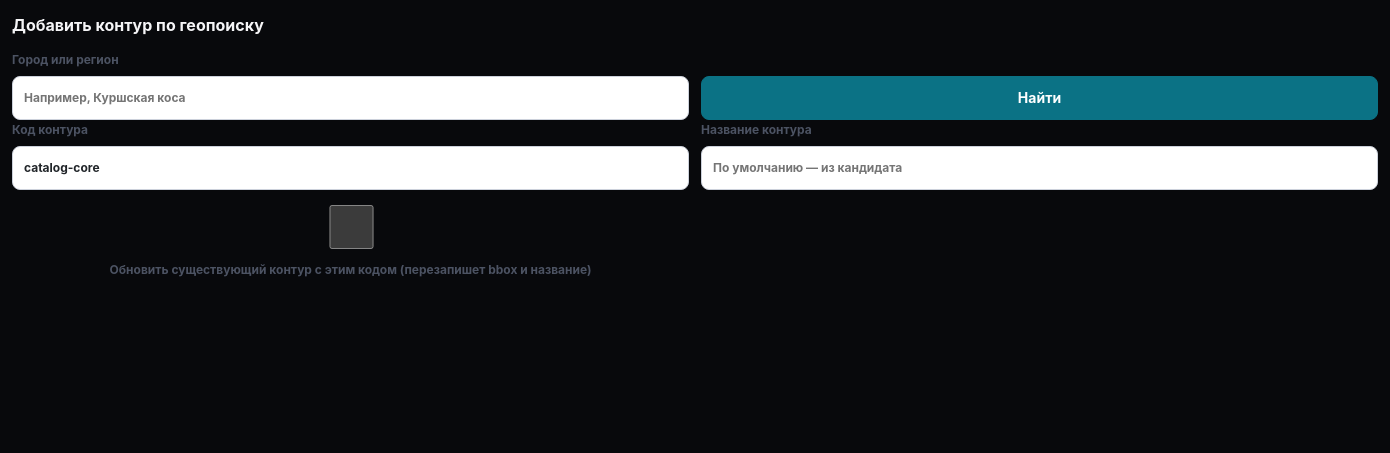
AdminDestinationGeoSearchPanel › recovers scope when recovery checkbox is explicitly enabled
This screenshot has width=1390, height=453.
Type "Калининград" into the field labelled "Город или регион" at (350, 98), box top-left (12, 76), bottom-right (689, 120)
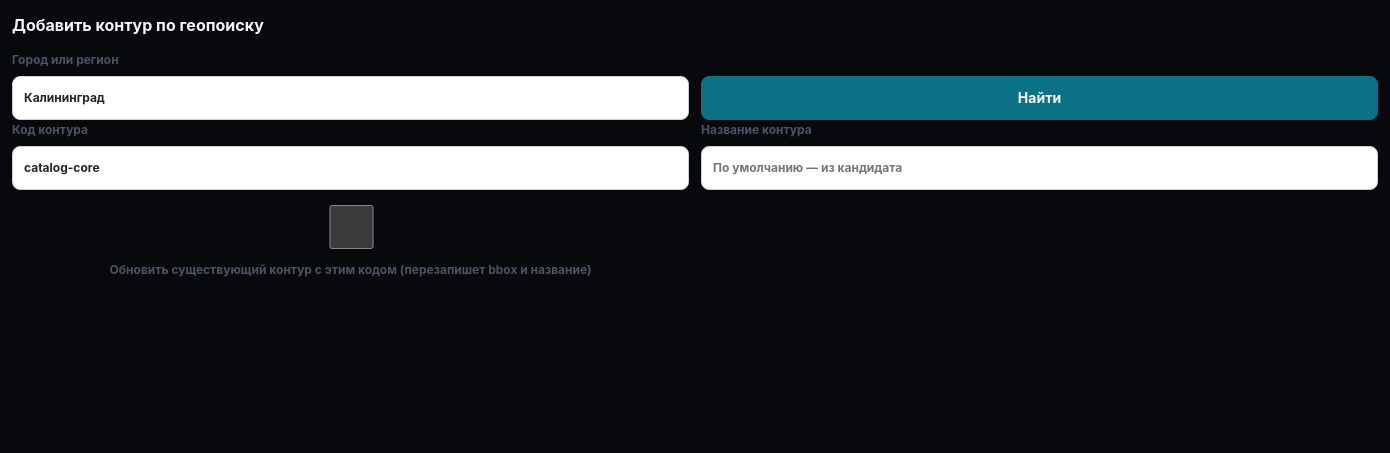
Click the button "Найти" at (1040, 98), box top-left (701, 76), bottom-right (1378, 120)
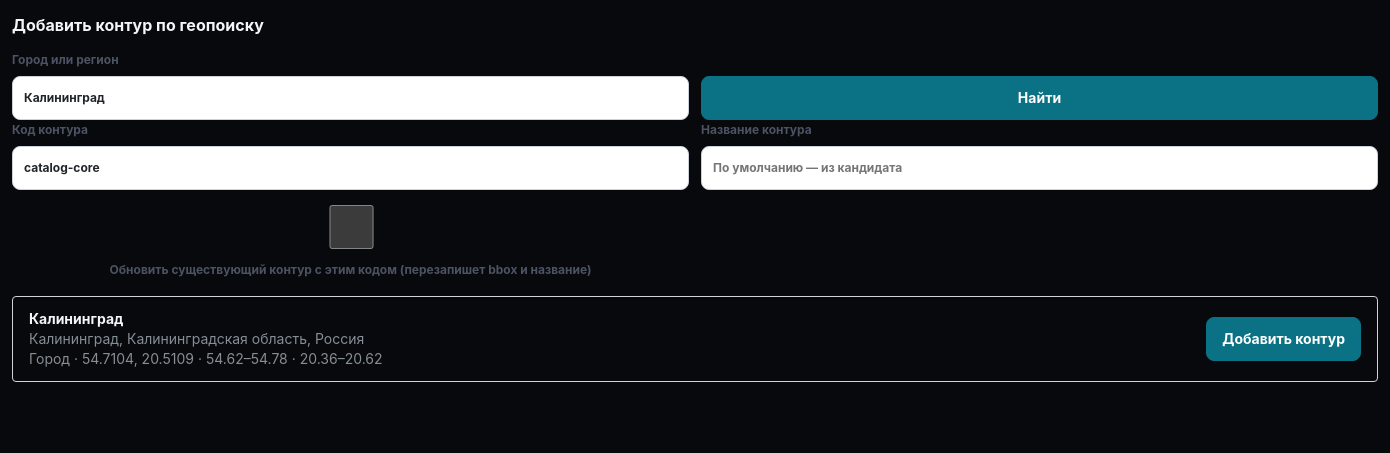
Expected: the button "Добавить контур" is enabled, top-left (1206, 317), bottom-right (1361, 361)
Click the checkbox labelled "Обновить существующий контур с этим кодом" at (351, 227), box top-left (12, 205), bottom-right (690, 249)
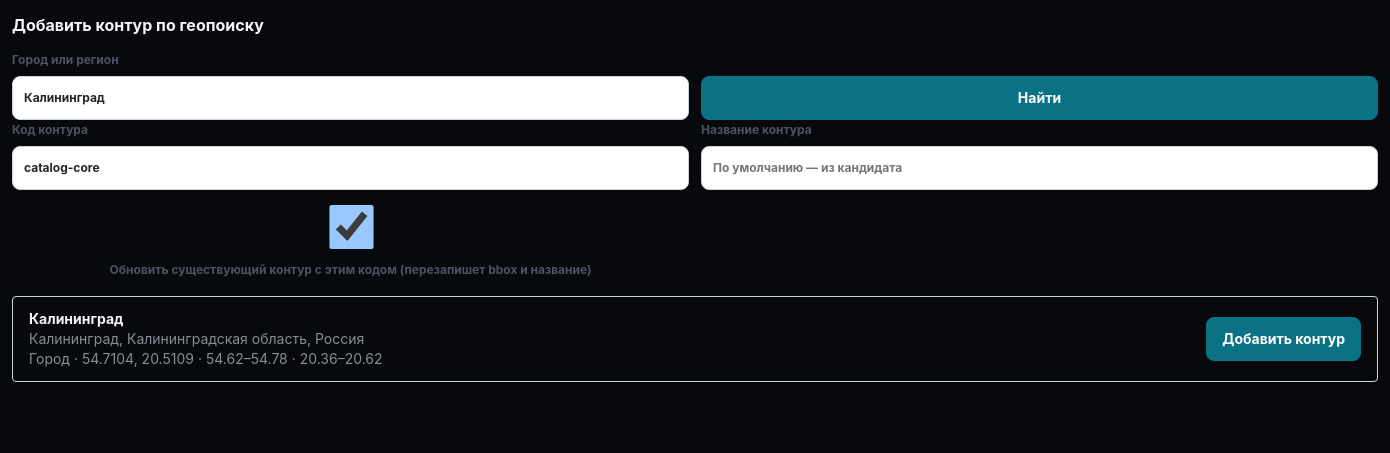
Click the button "Добавить контур" at (1284, 339), box top-left (1206, 317), bottom-right (1361, 361)
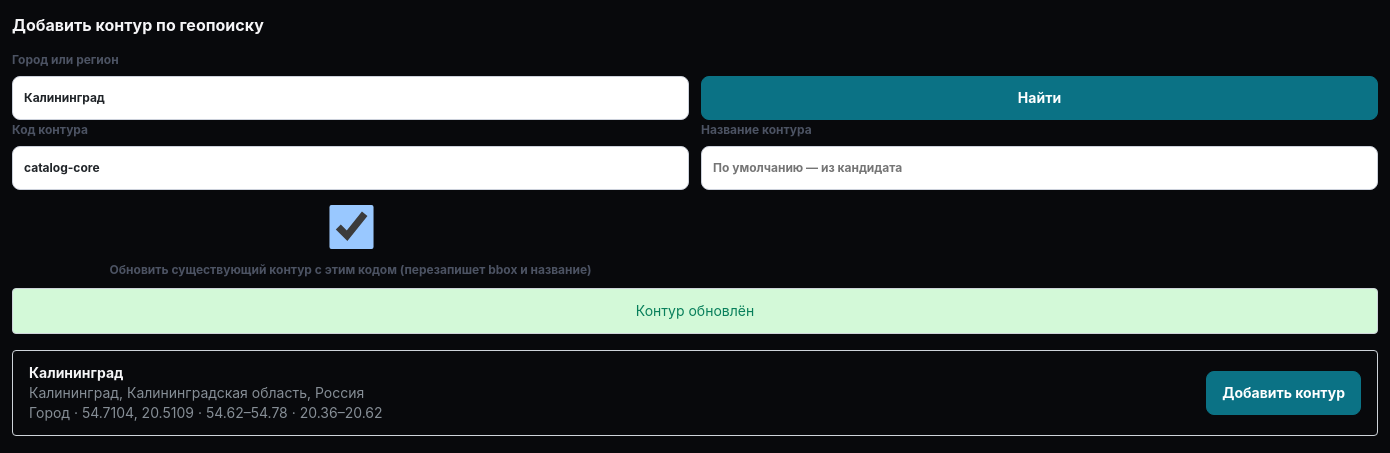
Expected: the text "Контур обновлён" is shown, top-left (12, 288), bottom-right (1378, 334)
